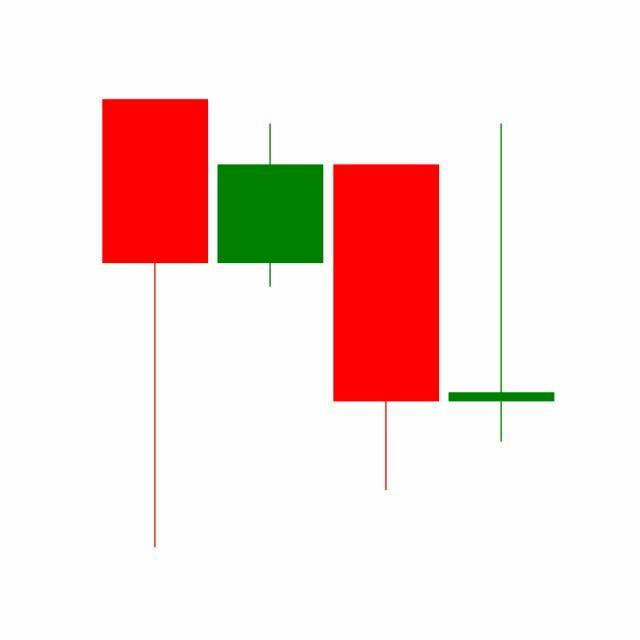Spinning Top: (444, 120, 560, 446)
